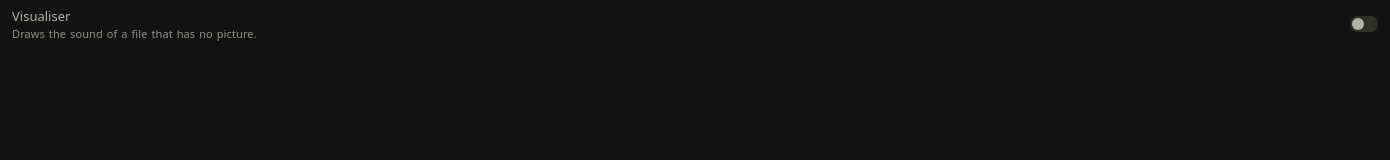
Test case: SwitchRow › is worked by a click on its hint too
Step 1. Click the text "Draws the sound of a file that has no picture." → {"x": 134, "y": 34}, box left=12, top=26, right=257, bottom=41
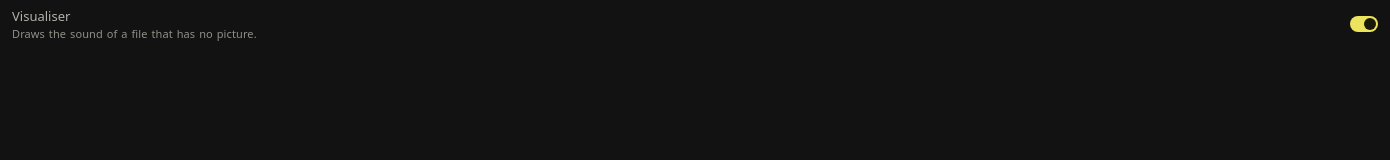
Check: the switch is checked, box left=1350, top=16, right=1378, bottom=32
